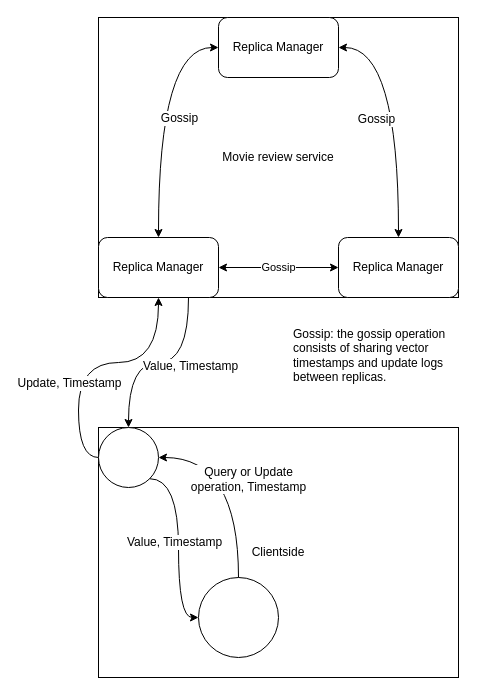
The diagram is 496 pixels wide and 695 high, and some of its shapes have lost their labels. The centre of each missing label's shape, as x and y in pixels:
Client: the point at 238,617
Front end: the point at 128,457
